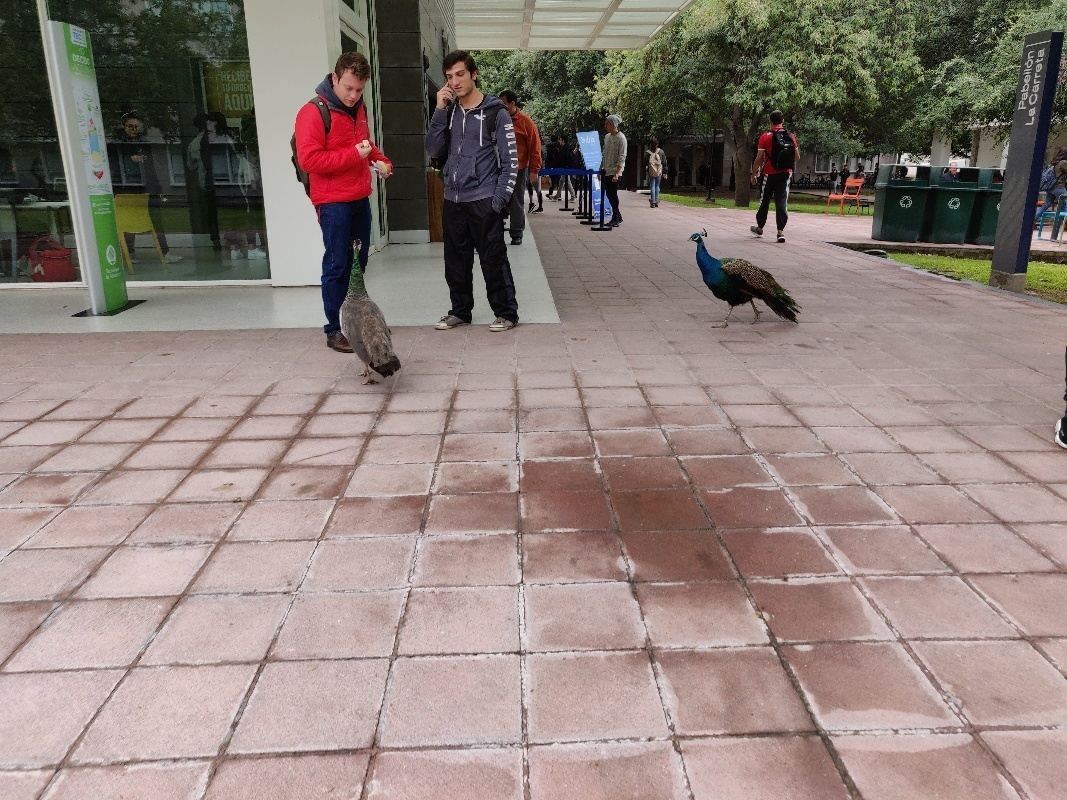pavoreal: (684, 228, 797, 329), (336, 238, 404, 385)
